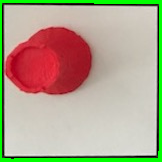Red Castle: (5, 23, 95, 100)
